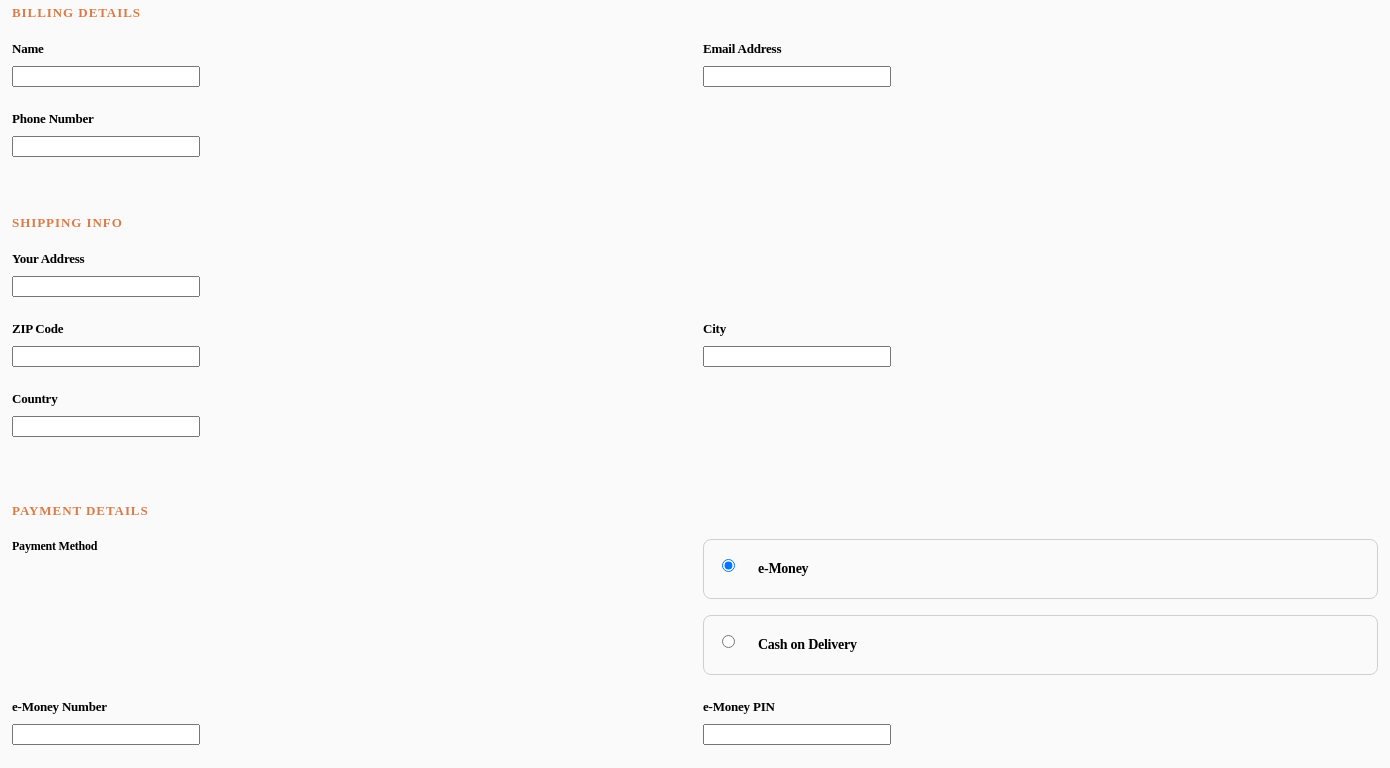
Test case: PaymentDetails › Interactions › hides the required error message in e-Money PIN field after non-empty value is inputted
The image size is (1390, 768).
// Show required error message
Click the field labelled "e-Money PIN" at (797, 734), box [703,724,891,745]
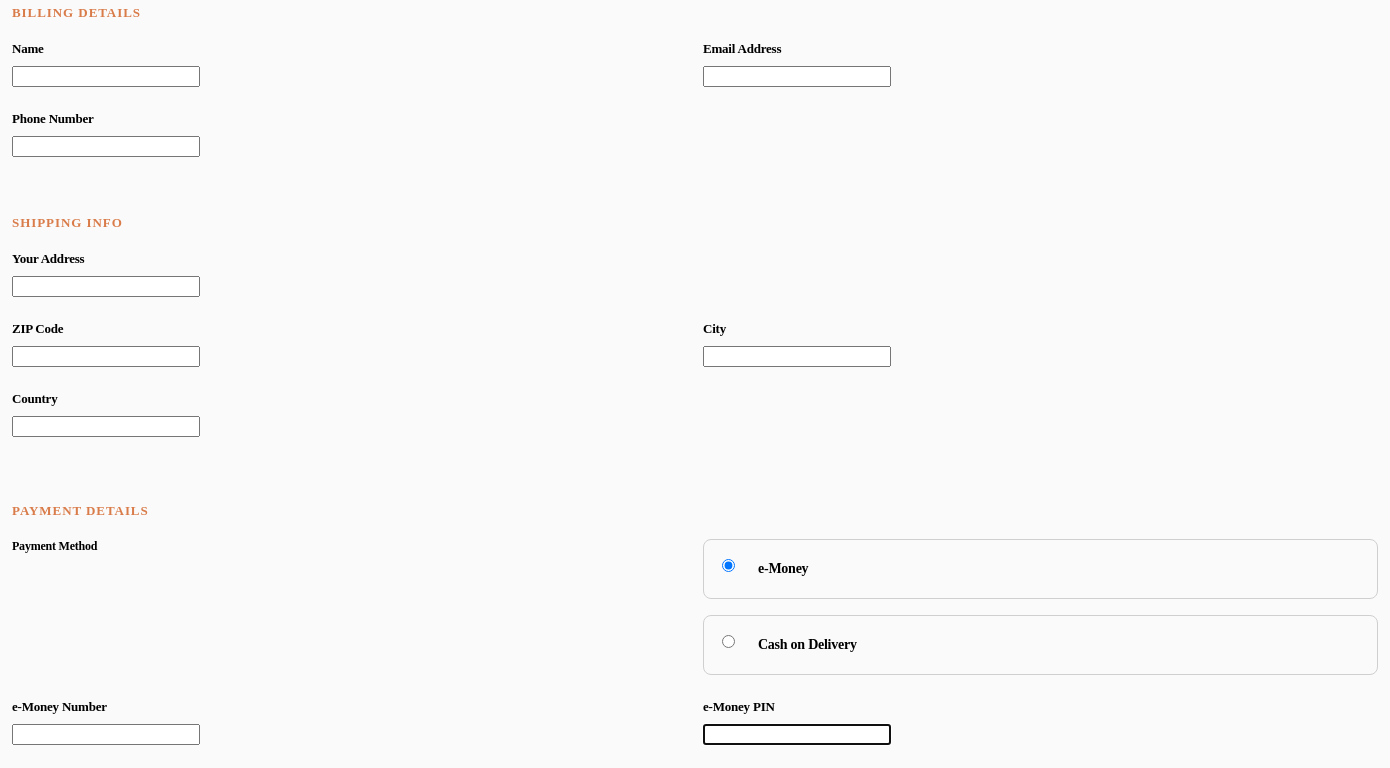
Click the element that starts with "Billing Details" at (695, 384), box [12,0,1378,767]
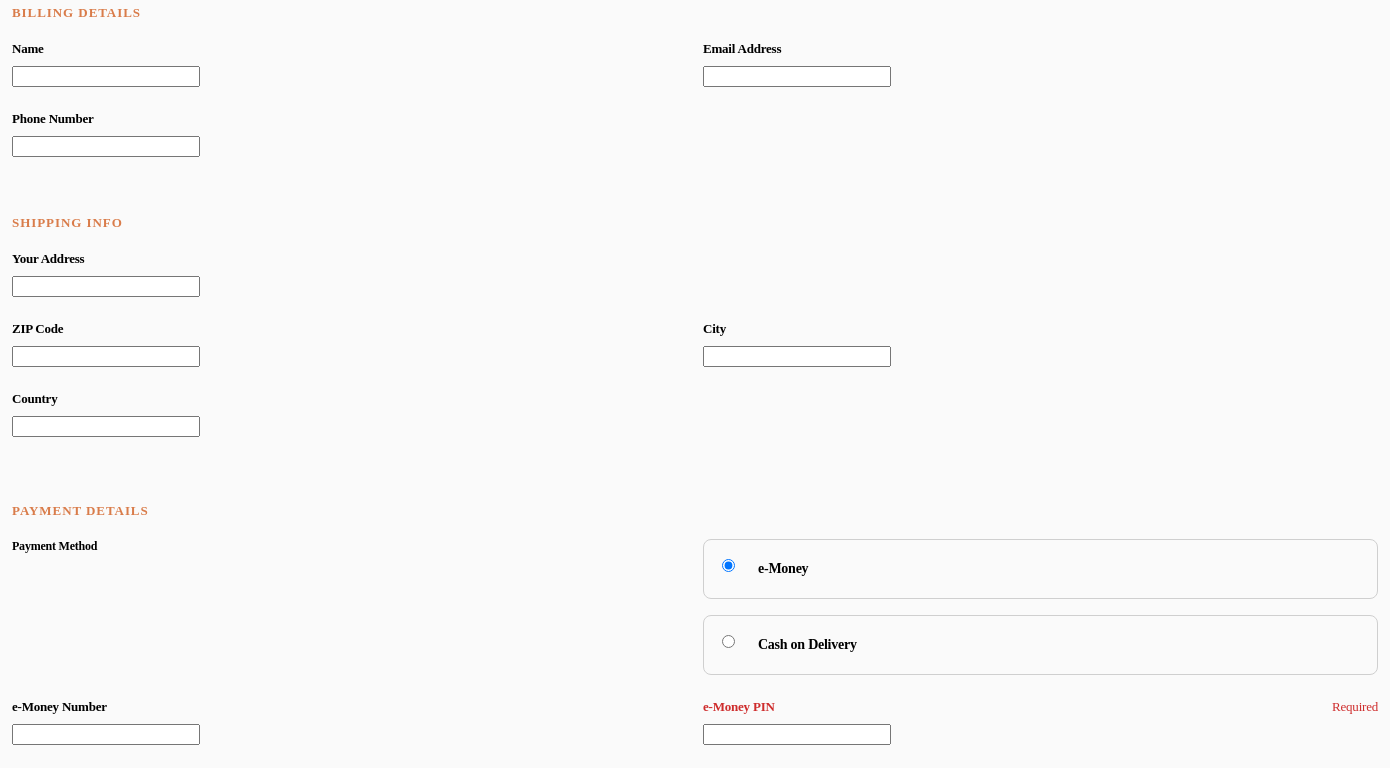
Now the text "Required" is shown, box [1332,699,1378,715]
// Input numberic value to remove required error message
Type "12" into the field labelled "e-Money PIN" at (797, 734), box [703,724,891,745]
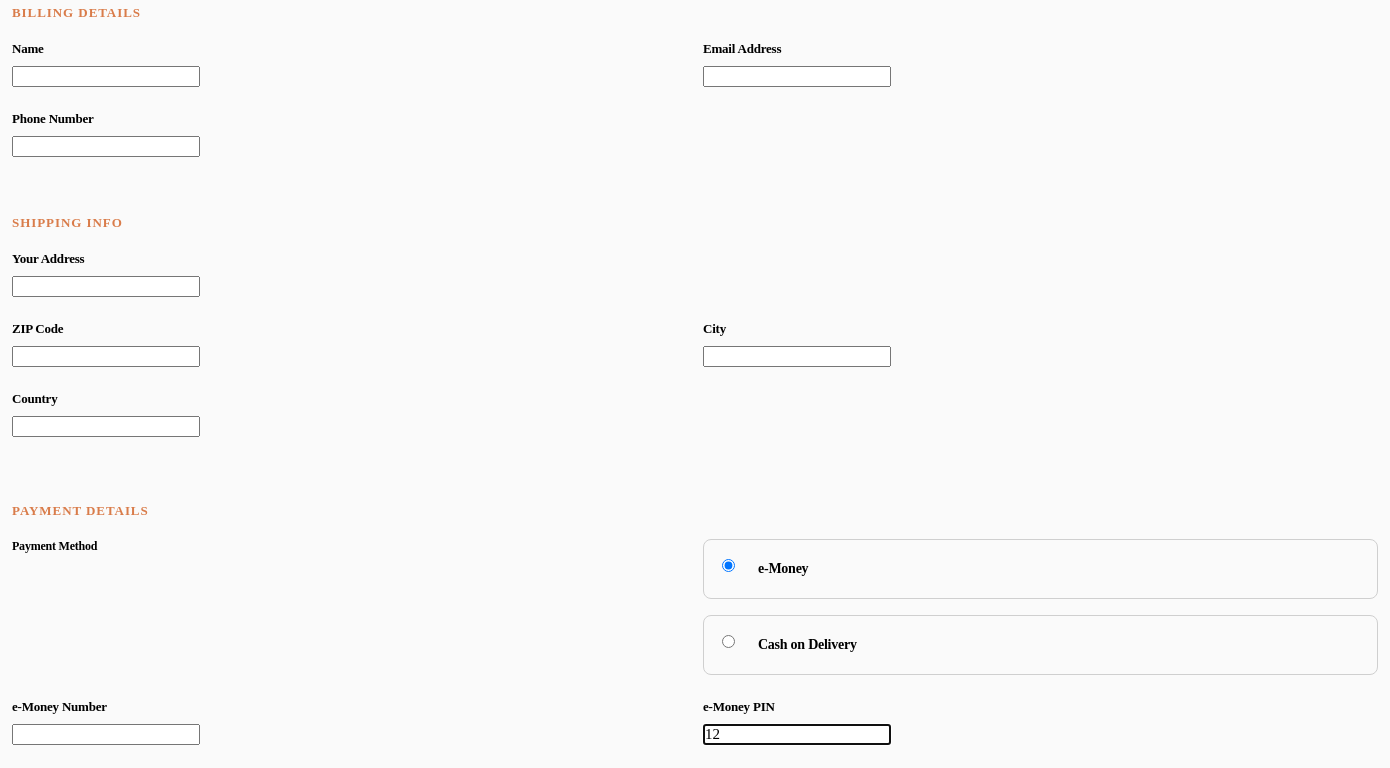
Now the text "Required" is gone
